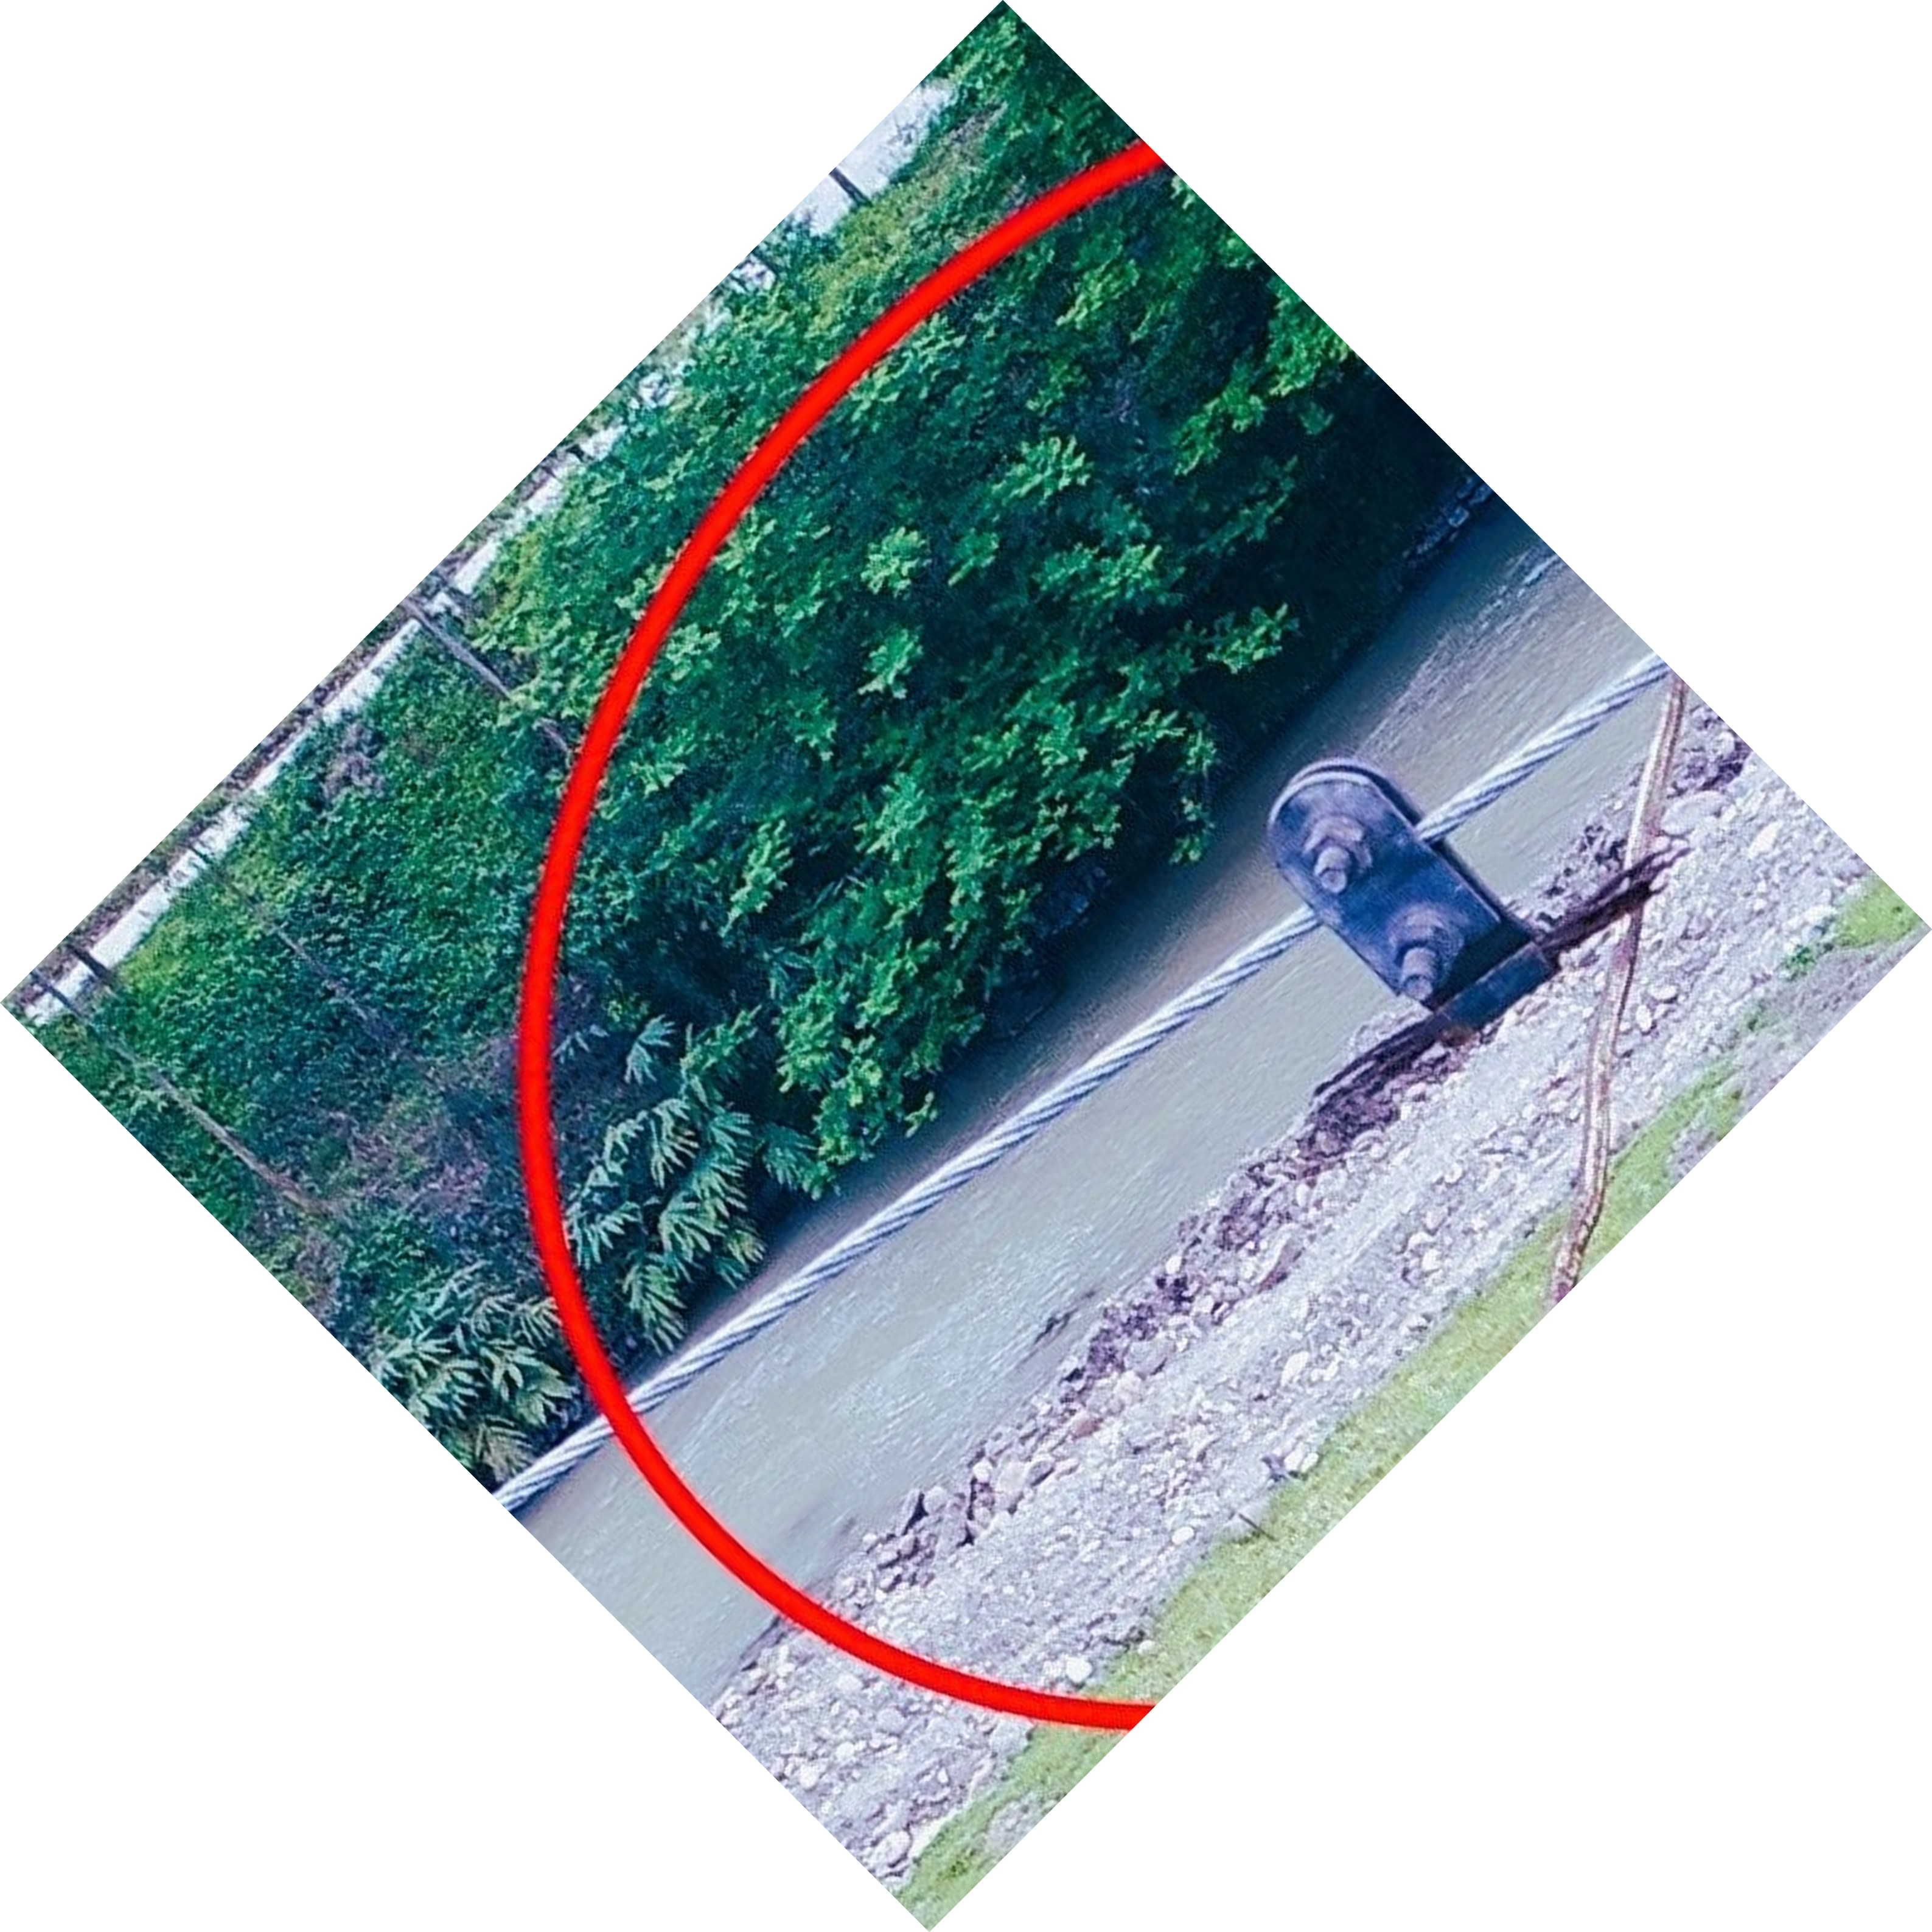Damage of shockproof hammer: (1242, 701, 1698, 1157)
